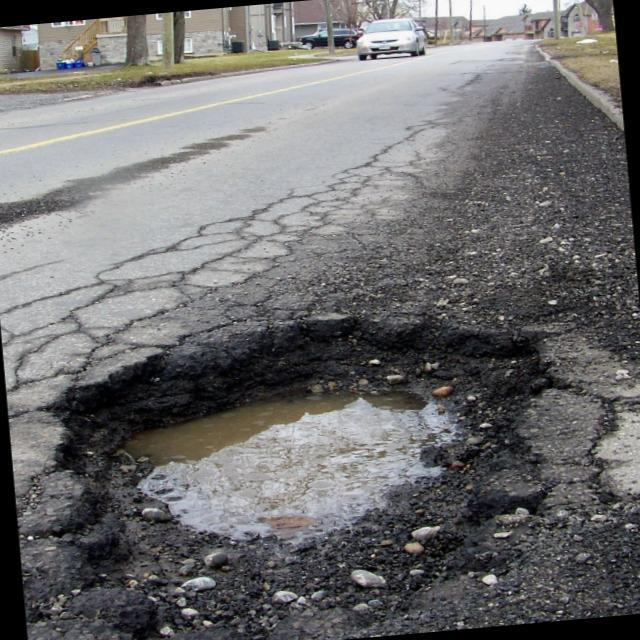Pothole: (58, 307, 532, 589)
